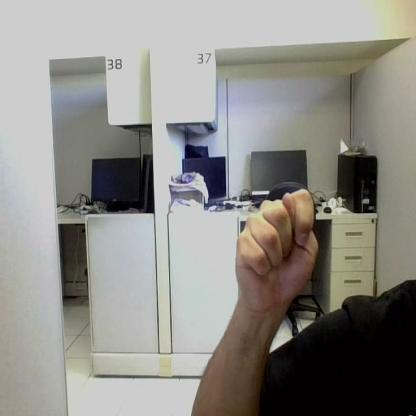T: (236, 190, 318, 310)
